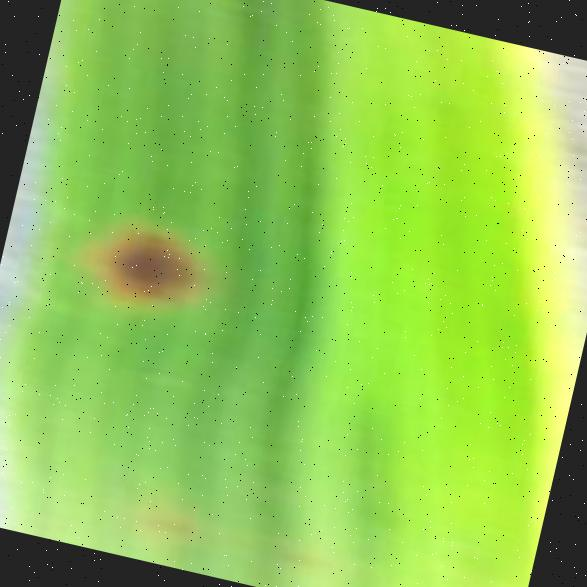Brown_Spot: (56, 189, 237, 340)
